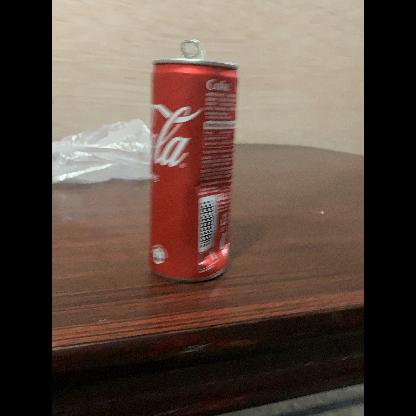Dent_Can: (199, 233, 229, 271), (191, 171, 227, 200)
Lid_Open: (178, 38, 212, 70)
Tin_Can: (145, 34, 247, 290)
